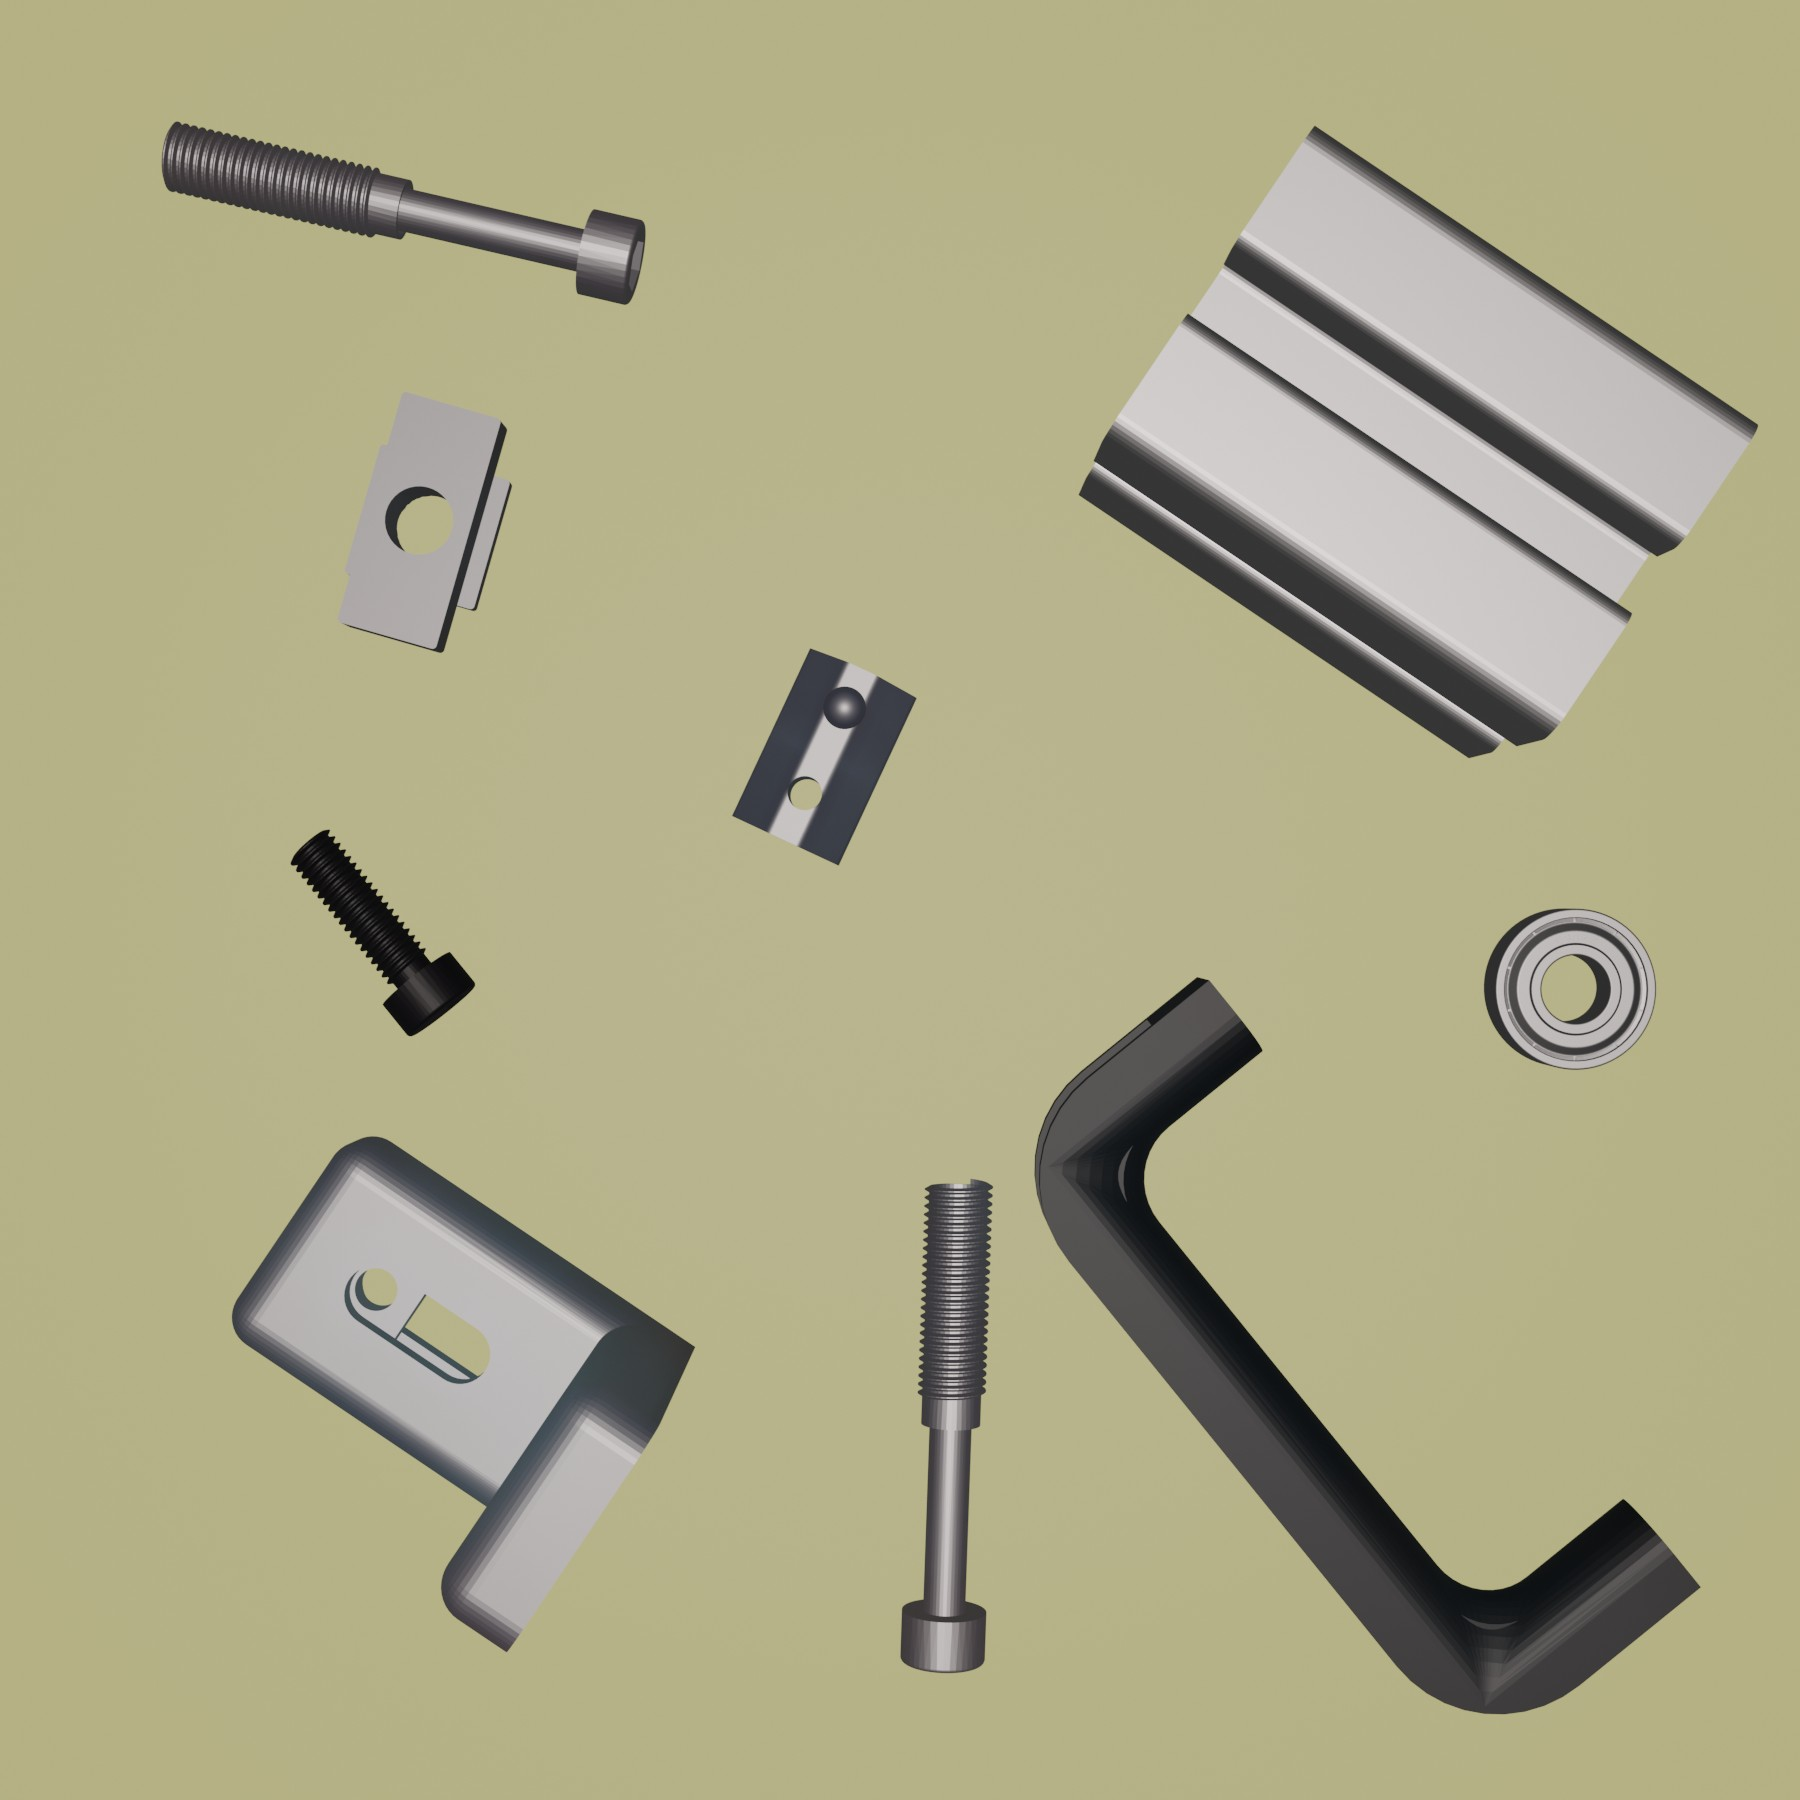Aluminium Extension: (1076, 120, 1759, 762)
Ball Bearing: (1482, 903, 1658, 1070)
Multiwinkel: (227, 1134, 697, 1655)
Pull Handle: (1032, 974, 1701, 1716)
Shoulder Socket Head Cap Screw: (158, 115, 648, 308), (897, 1175, 997, 1676)
Socket Head Cap Screw: (287, 826, 476, 1037)
T Nut Square: (336, 386, 519, 654)
T Spring Nut: (732, 648, 916, 865)
